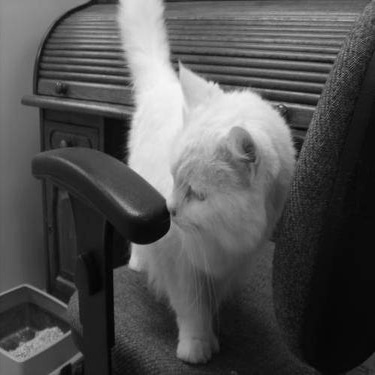cat: (105, 1, 314, 354)
